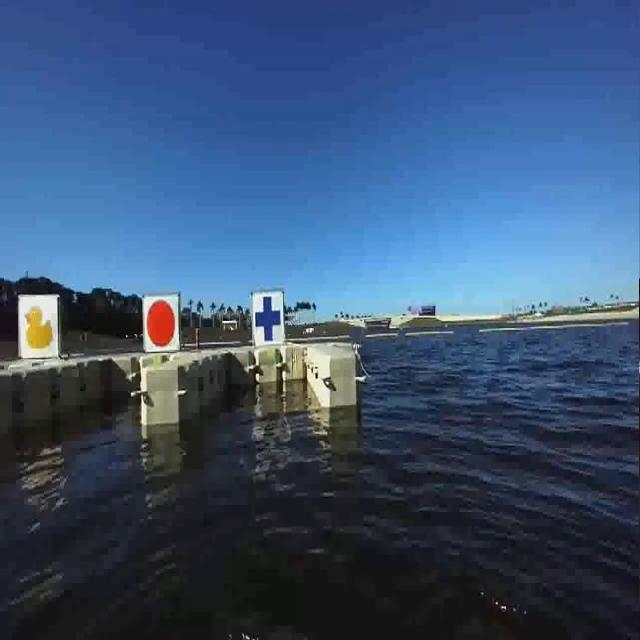blue-cross: (253, 287, 286, 347)
red-dot: (141, 298, 184, 357)
yellow-duck: (22, 290, 60, 358)
